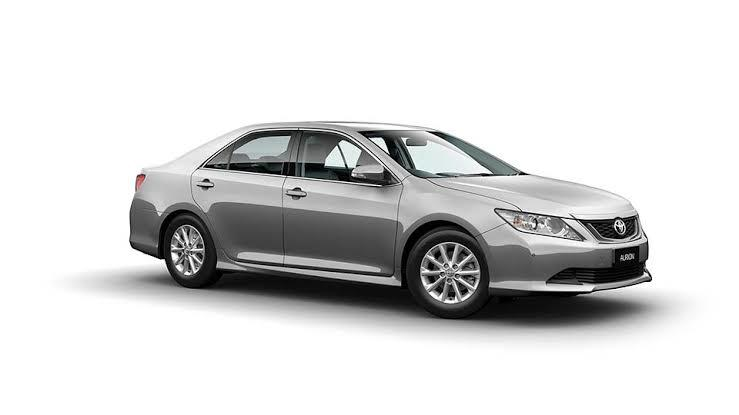audi: (114, 113, 659, 320)
